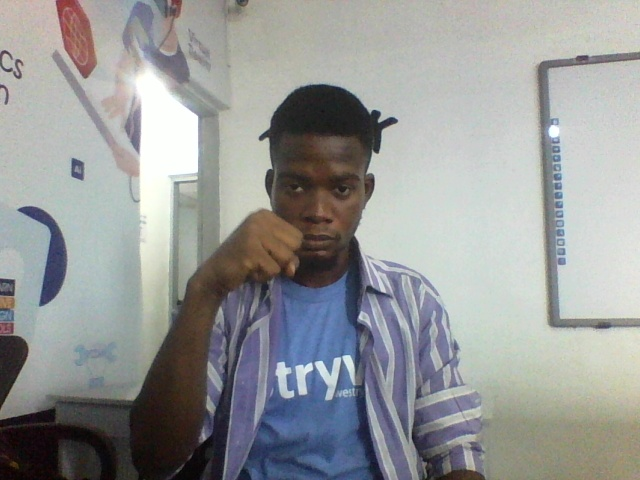yes: (160, 207, 310, 314)
